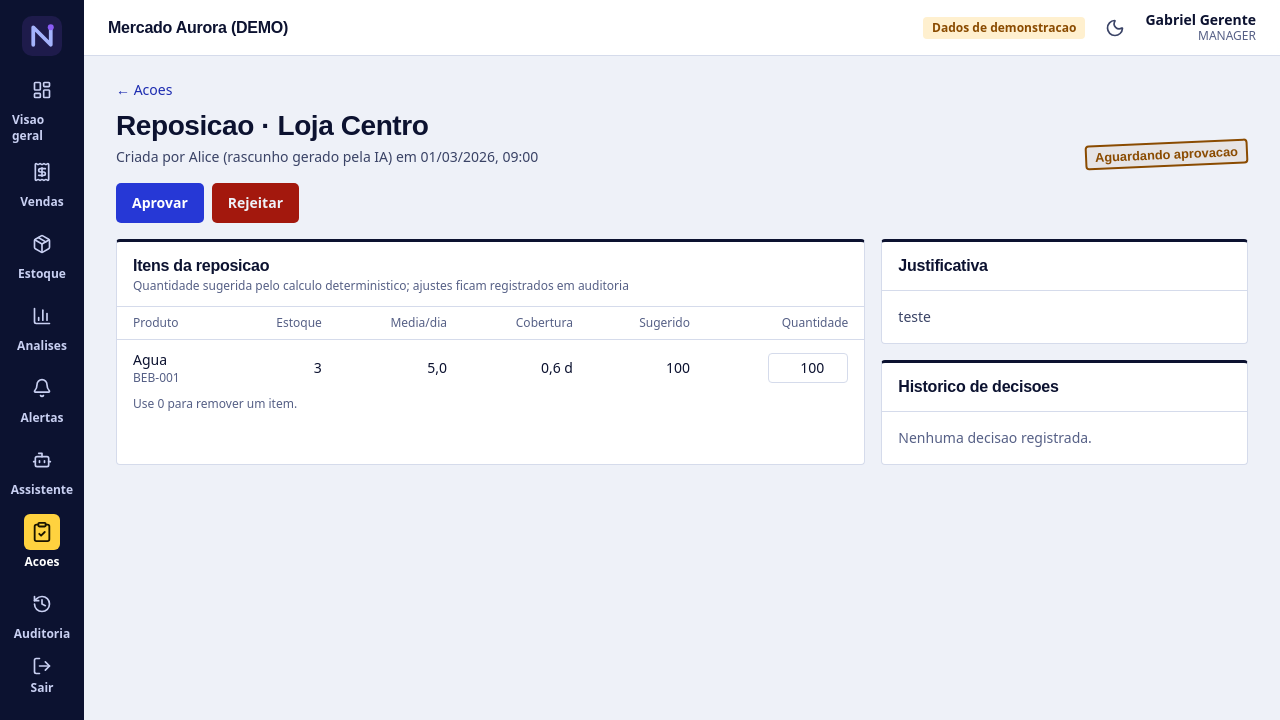
Test case: fluxo de aprovacao › mostra a mensagem de erro do servidor quando a transicao falha
Click the button "Aprovar" at {"x": 160, "y": 203}, box [116,183,204,223]
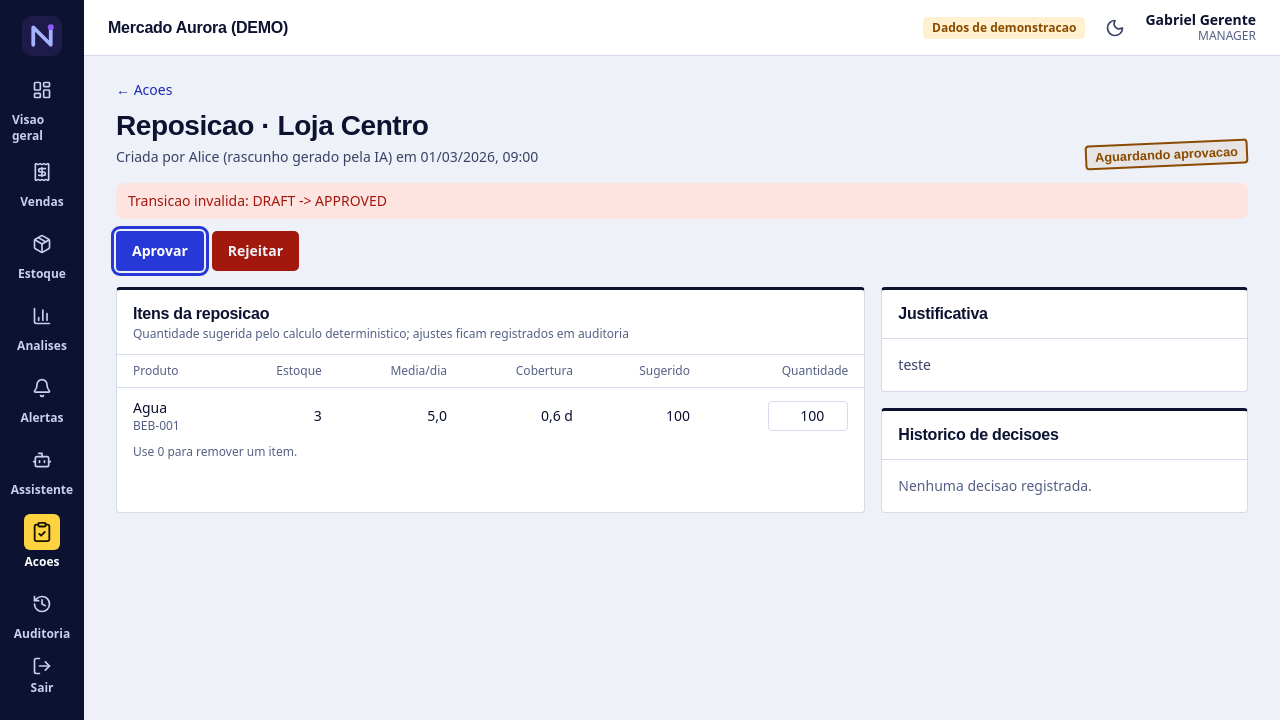
Result: the message shows "Transicao invalida" at [128,191,387,210]
